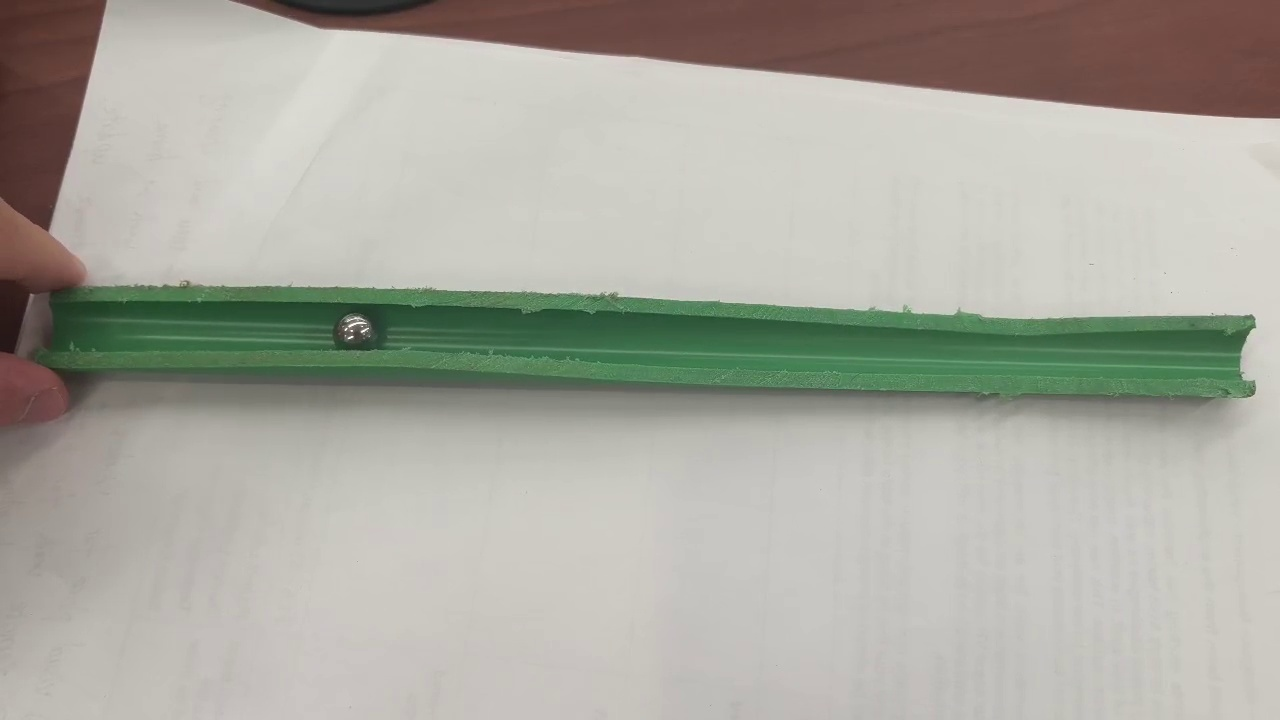ball: (336, 315, 374, 343)
